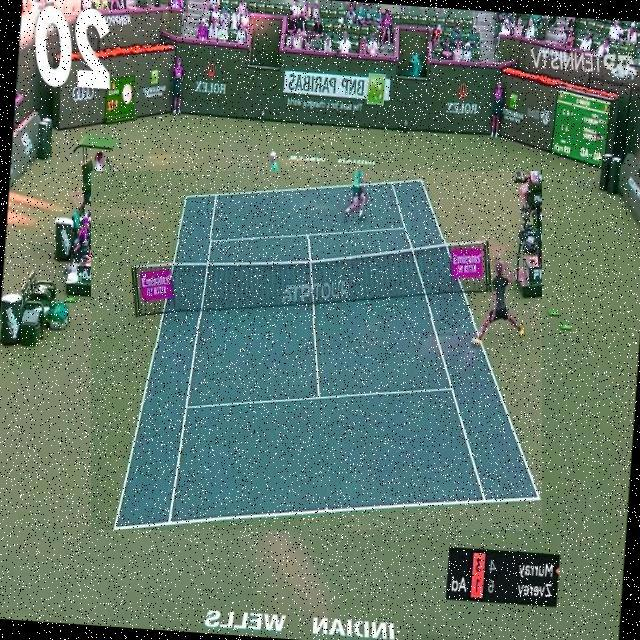court: (91, 171, 544, 530)
net: (142, 239, 504, 318)
player: (108, 245, 168, 348)
